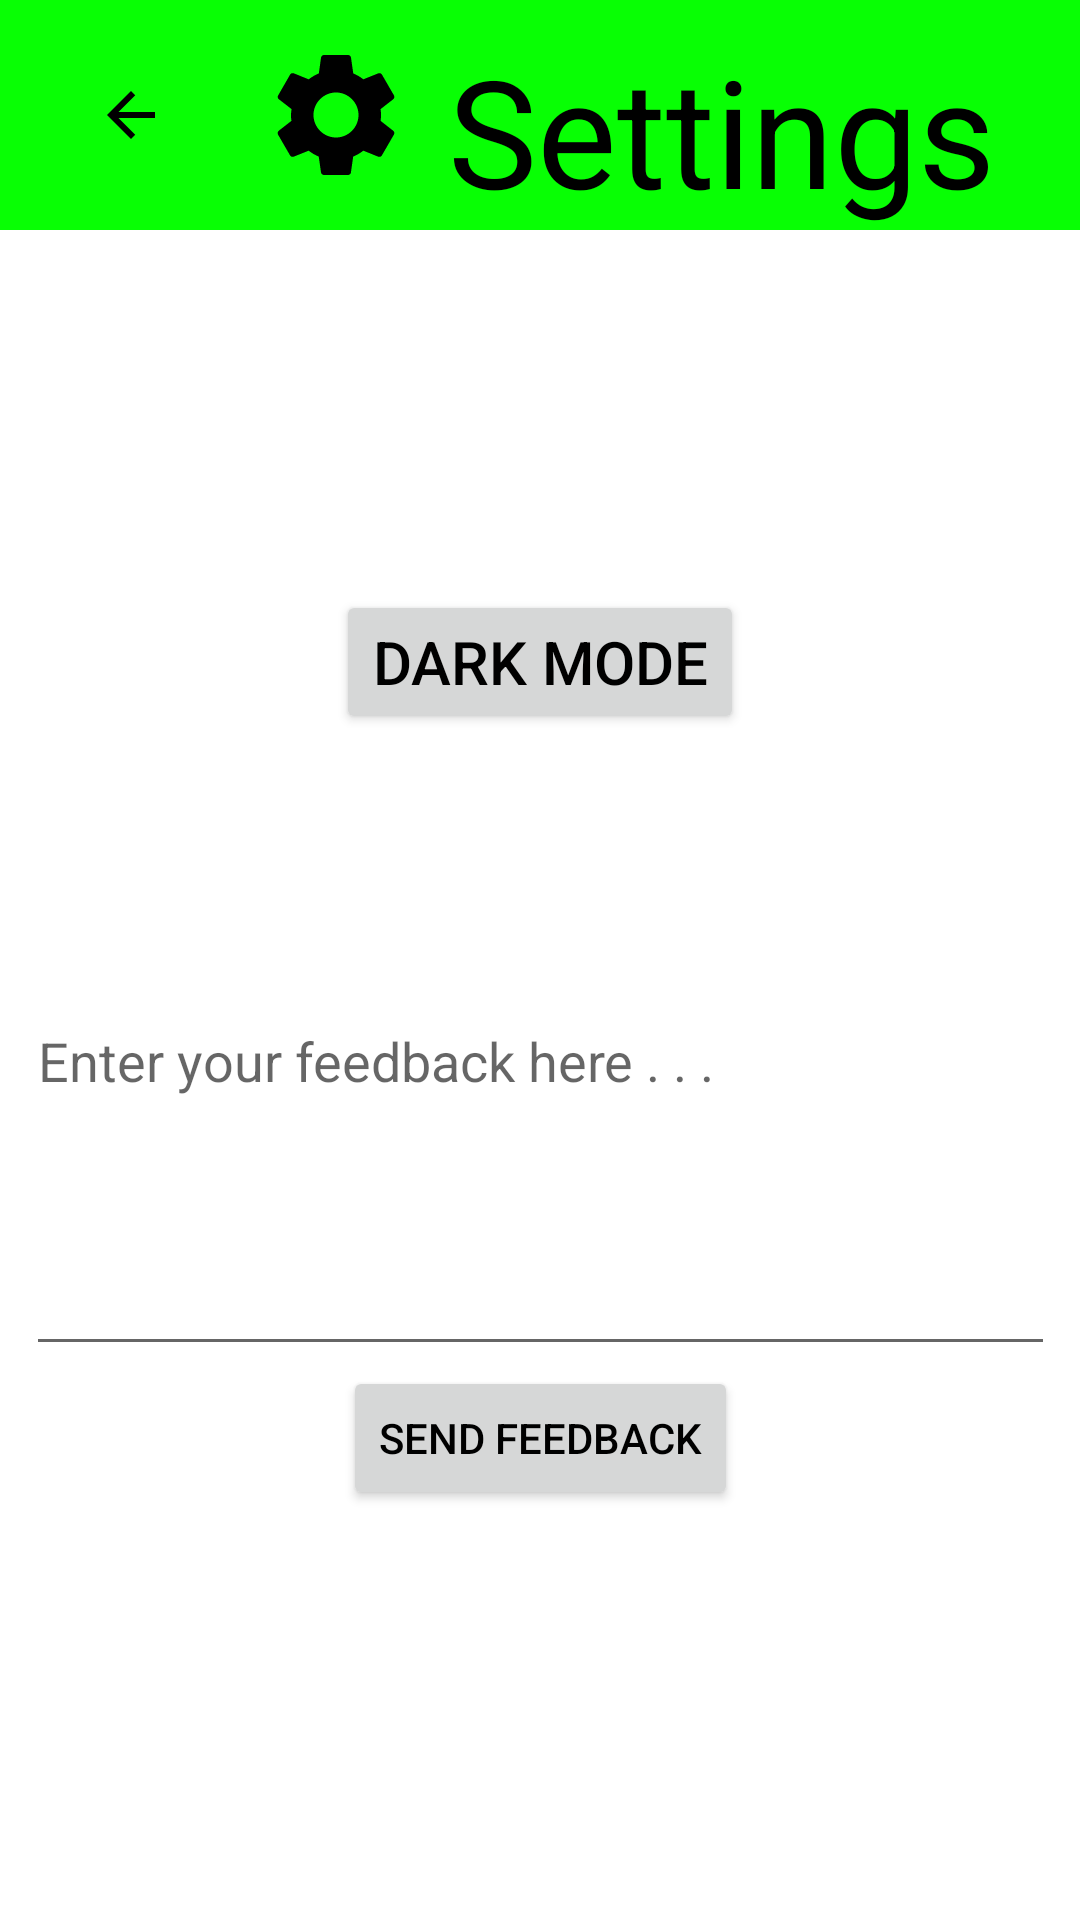

Named icons in this screenshot (1080w x 1920h) and their centers, point (x, y):
back: point (131, 115)
